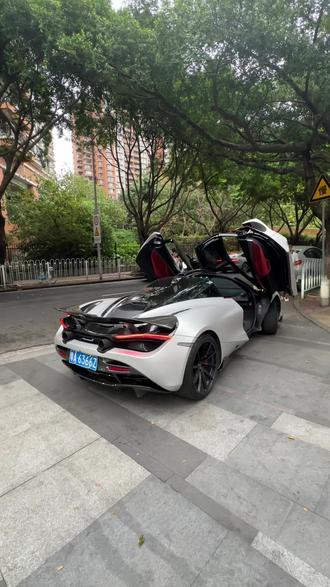other: (48, 253, 290, 403)
